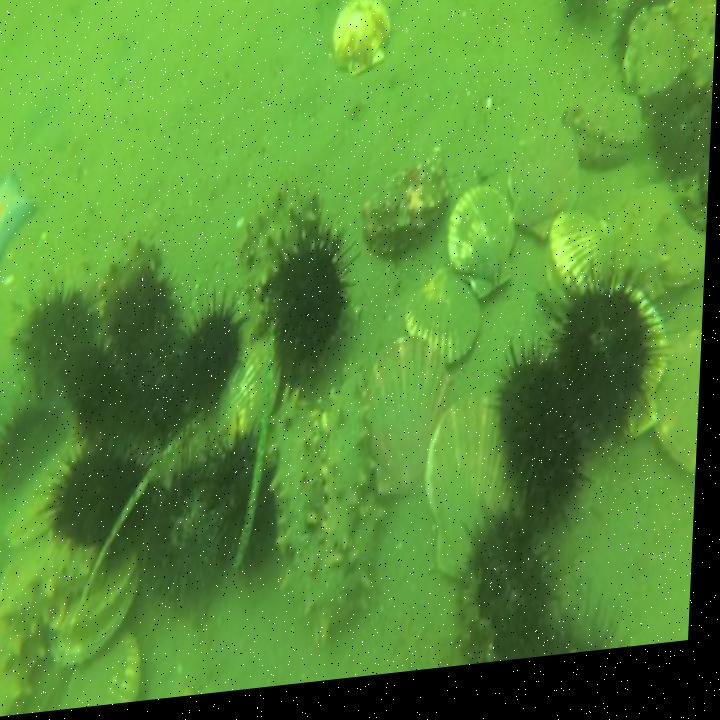echinus: (493, 346, 601, 538), (551, 278, 656, 450), (460, 512, 566, 665), (154, 449, 242, 612), (49, 444, 151, 557), (11, 281, 105, 399), (217, 427, 284, 591), (109, 267, 186, 384), (182, 292, 248, 413), (0, 400, 70, 498), (125, 355, 196, 451), (75, 349, 140, 451), (652, 94, 710, 204), (612, 0, 674, 81), (558, 0, 625, 43)
holothurian: (262, 380, 395, 663), (0, 539, 99, 718), (322, 357, 379, 567), (240, 179, 326, 314), (70, 230, 165, 320), (614, 194, 679, 301), (666, 0, 718, 114)
scallop: (426, 393, 513, 596), (364, 337, 462, 511), (263, 229, 361, 383), (55, 554, 148, 677), (505, 131, 586, 261), (403, 267, 489, 384), (446, 190, 523, 319), (6, 437, 87, 556), (214, 337, 287, 458), (627, 295, 676, 459), (656, 339, 705, 501), (65, 627, 152, 712), (546, 217, 615, 319), (566, 104, 651, 186), (328, 0, 398, 92), (660, 236, 710, 309)
starfish: (0, 159, 44, 279)
